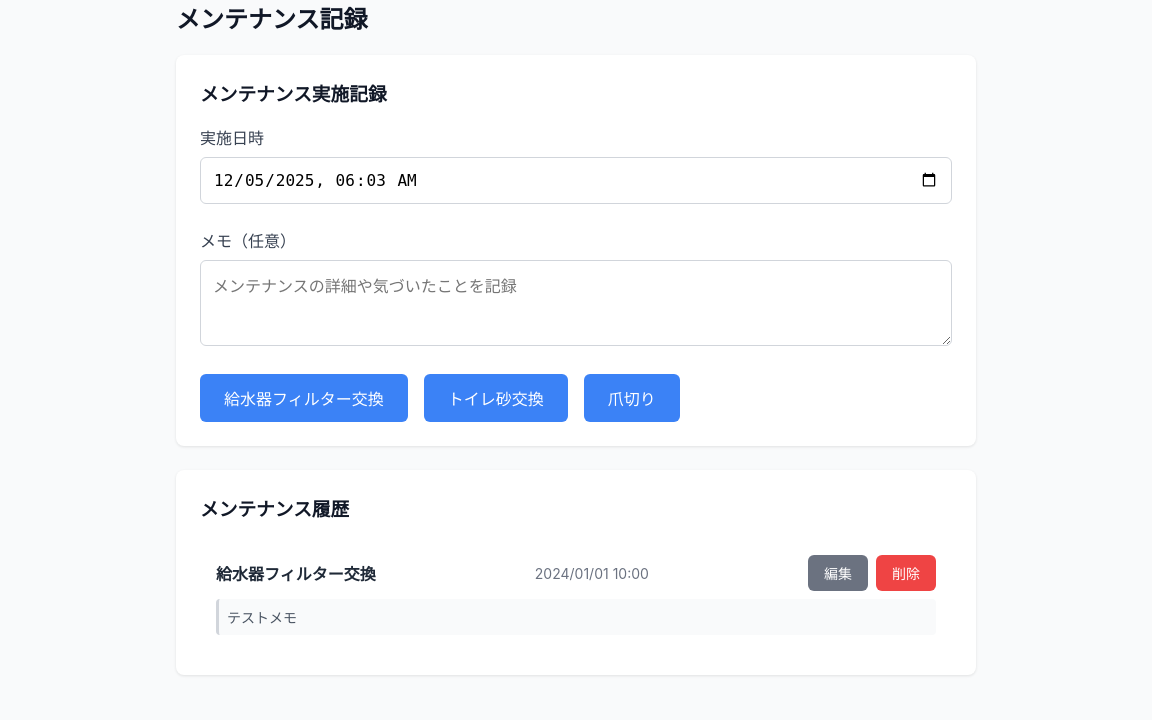
Test: MaintenanceRecord › Maintenance Record Form Tests › should create water filter maintenance record successfully
Expected: the button "給水器フィルター交換" is shown, [200,374,408,422]
// Fill in notes
Type "テストメモ" into the text box with placeholder "メンテナンスの詳細や気づいたことを記録" at point(576, 303), box [200,260,952,346]
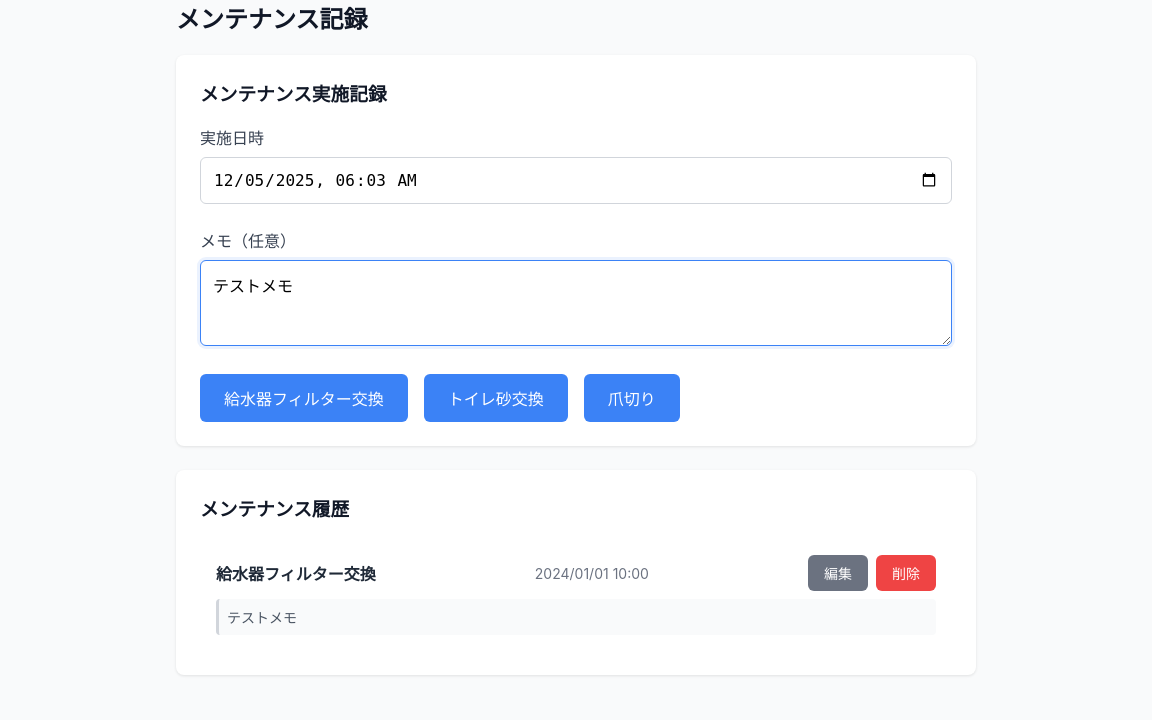
// Click water filter button
Click the button "給水器フィルター交換" at point(304, 398), box [200,374,408,422]
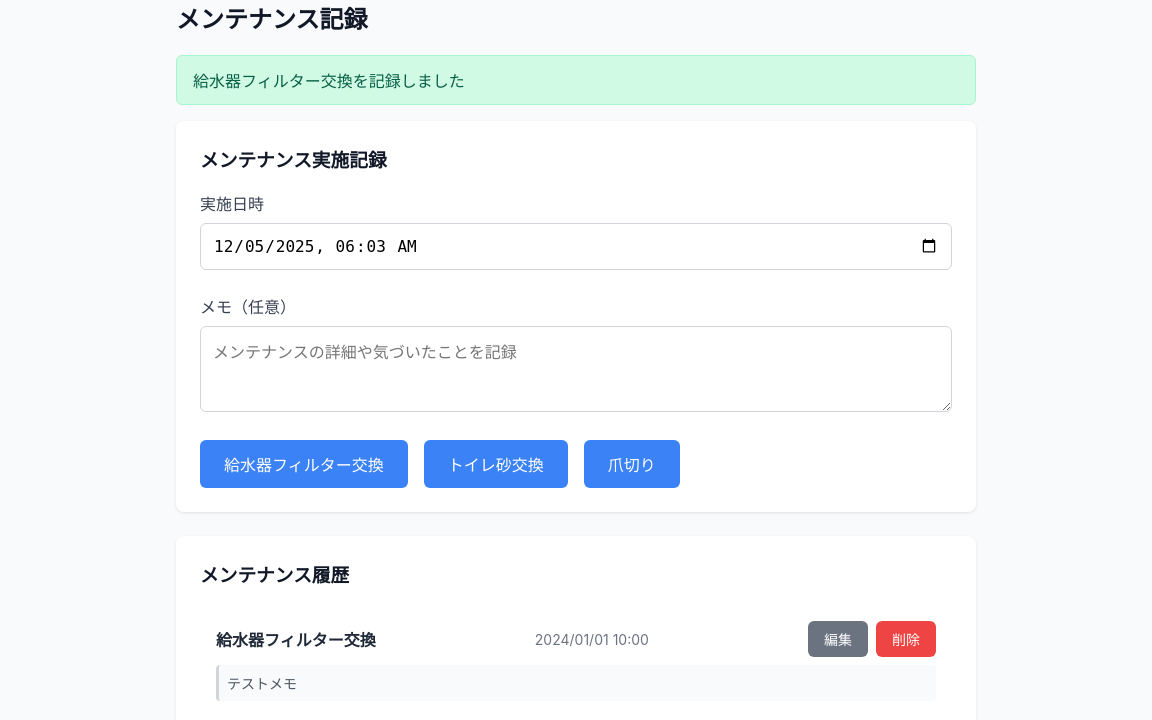
Expected: the text "給水器フィルター交換を記録しました" is shown, [176,55,976,105]
